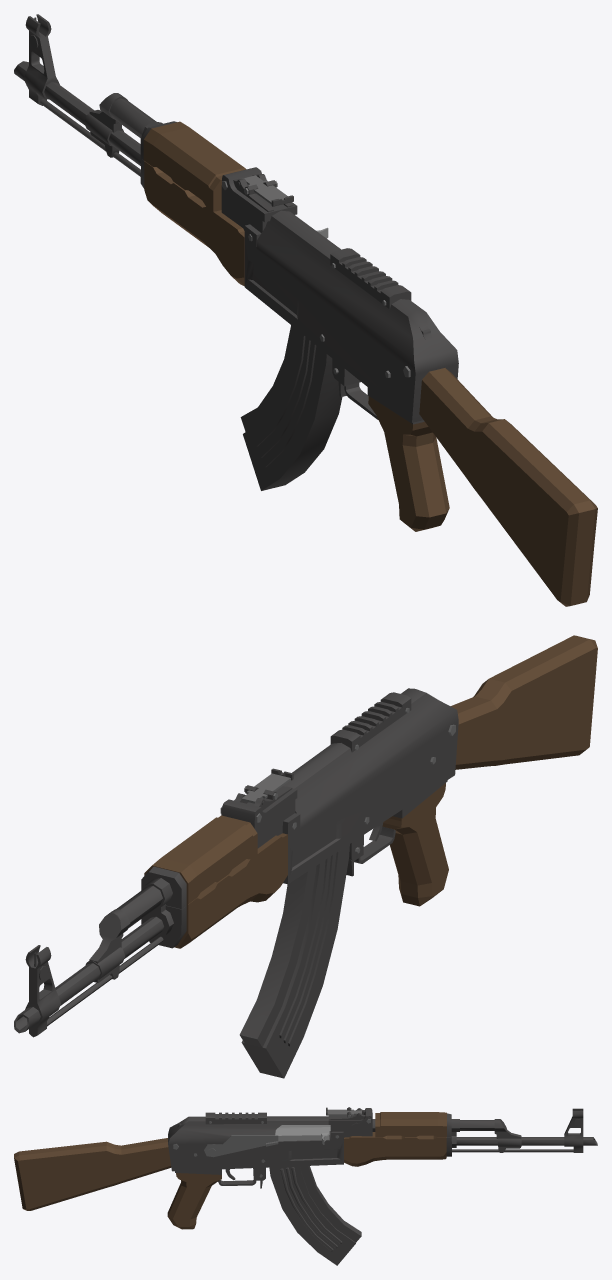
3 renders of one model, top to bottom at view 1: azimuth 30°, elevation 25°; view 2: azimuth 150°, elevation 25°; view 3: azimuth 270°, elevation 25°, orthographic. The views are drawn at different scales.
Visible parts, largest first — view 1: Cuerpo, Cargador; view 2: Cuerpo, Cargador; view 3: Cuerpo, Cargador, Tiro.
Boxes of the visible parts, <box> form: Cuerpo: <box>14,14,597,606</box>; Cargador: <box>240,325,342,490</box>; Cuerpo: <box>14,635,597,1037</box>; Cargador: <box>239,844,349,1078</box>; Cuerpo: <box>14,1107,597,1229</box>; Cargador: <box>269,1166,361,1265</box>; Tiro: <box>275,1125,330,1144</box>.
Size of the model in its own units: 0.6443 by 2.77 by 9.58.
